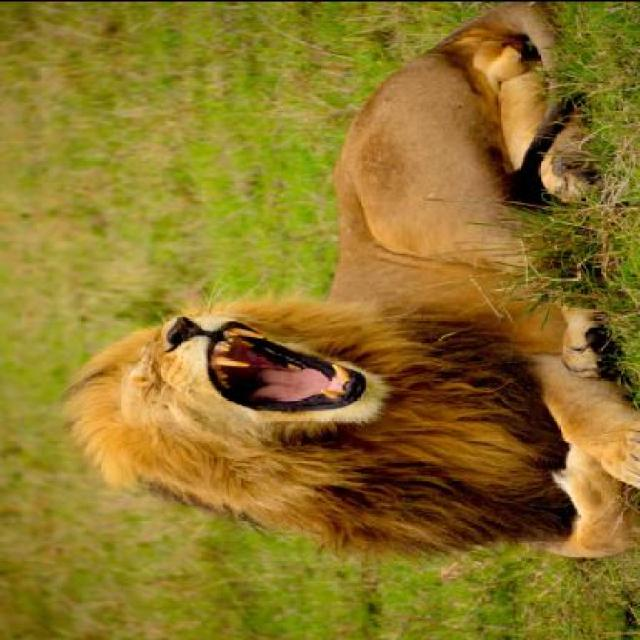Lion: (41, 4, 638, 578)
